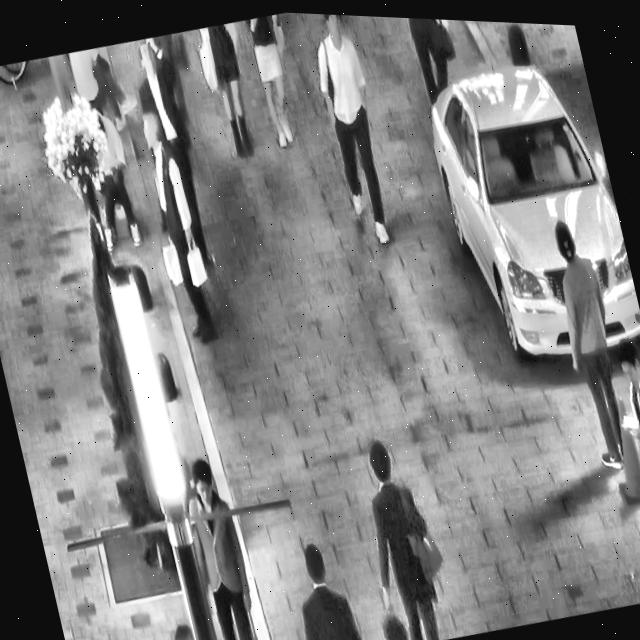light_vehicle: (409, 22, 640, 384)
